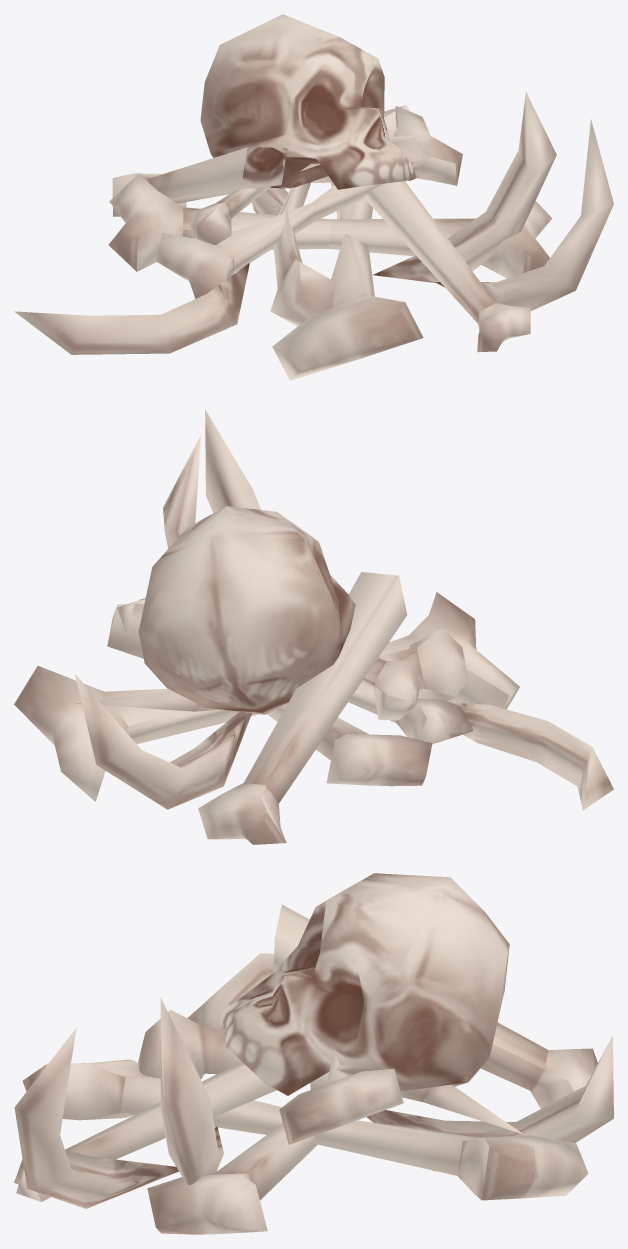
The model's file is low-poly-bones.glb.
The picture shows the model from 3 angles, top to bottom: view 1: azimuth 30°, elevation 25°; view 2: azimuth 150°, elevation 25°; view 3: azimuth 270°, elevation 25°; orthographic projection. The views are drawn at different scales.
Size of the model in its own units: 85.93 by 40.98 by 75.4.
Materials: 1 (1 with a texture image).
